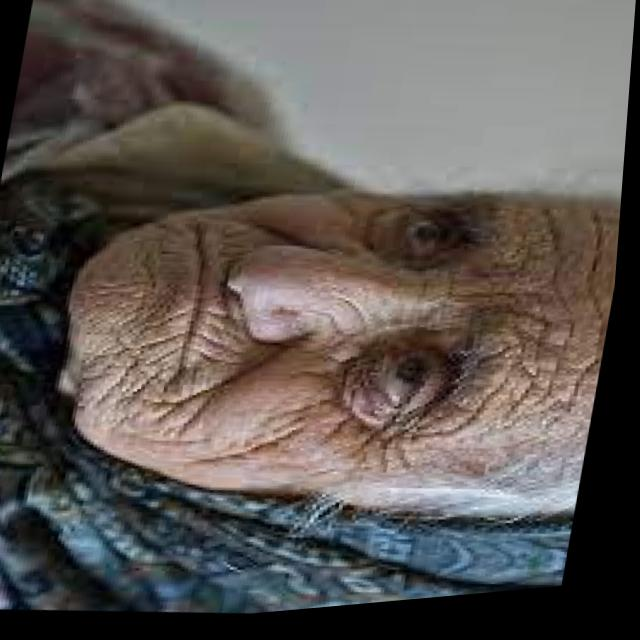Wrinkles: (510, 215, 589, 441), (188, 404, 336, 472), (570, 219, 616, 427), (145, 370, 250, 446), (97, 334, 173, 410), (121, 366, 171, 424)
